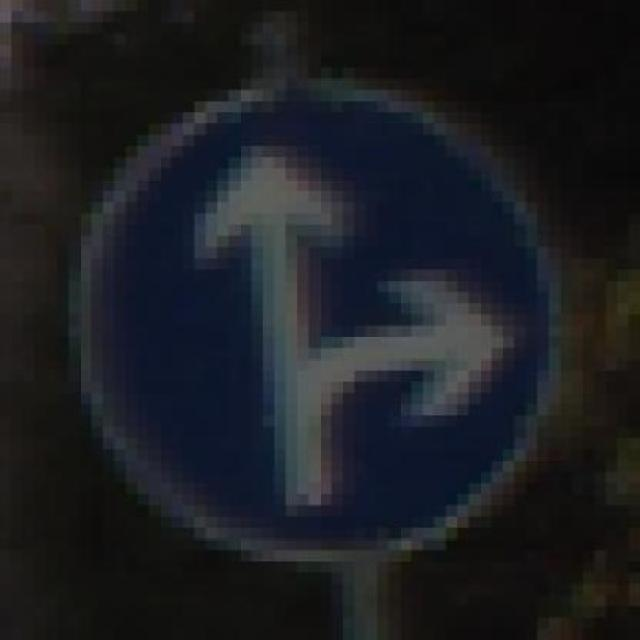Go Straight or Turn Right: (68, 68, 583, 562)
